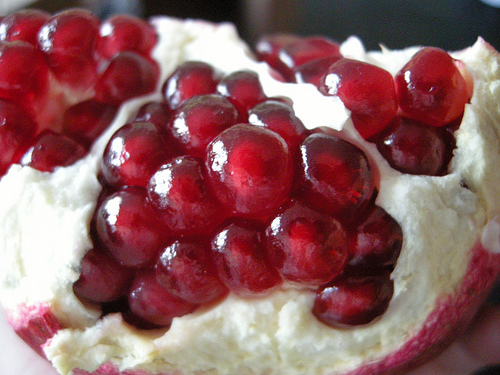pomogranate: (0, 5, 499, 374)
